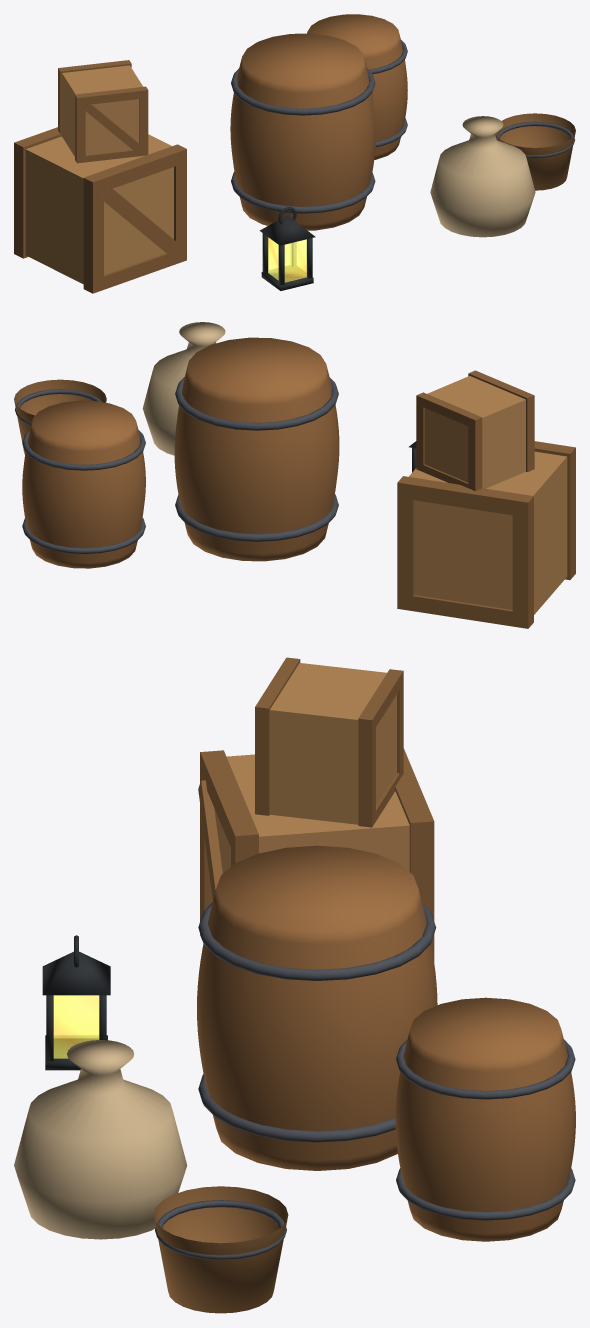
3 views of the same model, one above another, from view 1: azimuth 30°, elevation 25°; view 2: azimuth 150°, elevation 25°; view 3: azimuth 270°, elevation 25° (orthographic). The views are drawn at different scales.
Visible parts, largest first — view 1: part_20, part_0, part_28, part_23, part_10, part_26, part_1, part_7, part_9, part_2, part_3, part_5 (+13 smaller); view 2: part_20, part_23, part_0, part_10, part_28, part_2, part_8, part_4, part_6, part_26, part_22, part_21 (+10 smaller); view 3: part_20, part_23, part_28, part_10, part_26, part_0, part_22, part_7, part_21, part_35, part_30, part_4 (+12 smaller).
Part boxes in pixels (<box>): part_20: <box>230,33,375,230</box>; part_0: <box>25,134,173,284</box>; part_28: <box>430,116,535,237</box>; part_23: <box>307,14,407,159</box>; part_10: <box>62,65,143,156</box>; part_26: <box>495,113,575,190</box>; part_1: <box>83,173,103,293</box>; part_7: <box>83,145,186,195</box>; part_9: <box>100,186,180,257</box>; part_2: <box>14,139,34,258</box>; part_3: <box>167,144,186,263</box>; part_5: <box>83,248,186,293</box>; part_20: <box>174,337,339,561</box>; part_23: <box>22,400,145,568</box>; part_0: <box>409,451,567,614</box>; part_10: <box>424,376,525,488</box>; part_28: <box>142,322,225,455</box>; part_2: <box>512,493,533,628</box>; part_8: <box>397,476,533,517</box>; part_4: <box>397,476,417,610</box>; part_6: <box>397,594,533,628</box>; part_26: <box>14,379,106,454</box>; part_22: <box>175,377,338,430</box>; part_21: <box>175,494,338,541</box>; part_20: <box>197,845,437,1170</box>; part_23: <box>395,997,575,1241</box>; part_28: <box>14,1040,187,1239</box>; part_10: <box>269,663,396,824</box>; part_26: <box>153,1186,288,1313</box>; part_0: <box>209,754,409,905</box>; part_22: <box>198,902,436,980</box>; part_7: <box>200,750,258,857</box>; part_21: <box>198,1074,395,1142</box>; part_35: <box>42,951,110,995</box>; part_30: <box>53,995,99,1058</box>; part_4: <box>406,811,434,961</box>.
Size of the model in its own units: 3.97 by 1.31 by 2.34.
